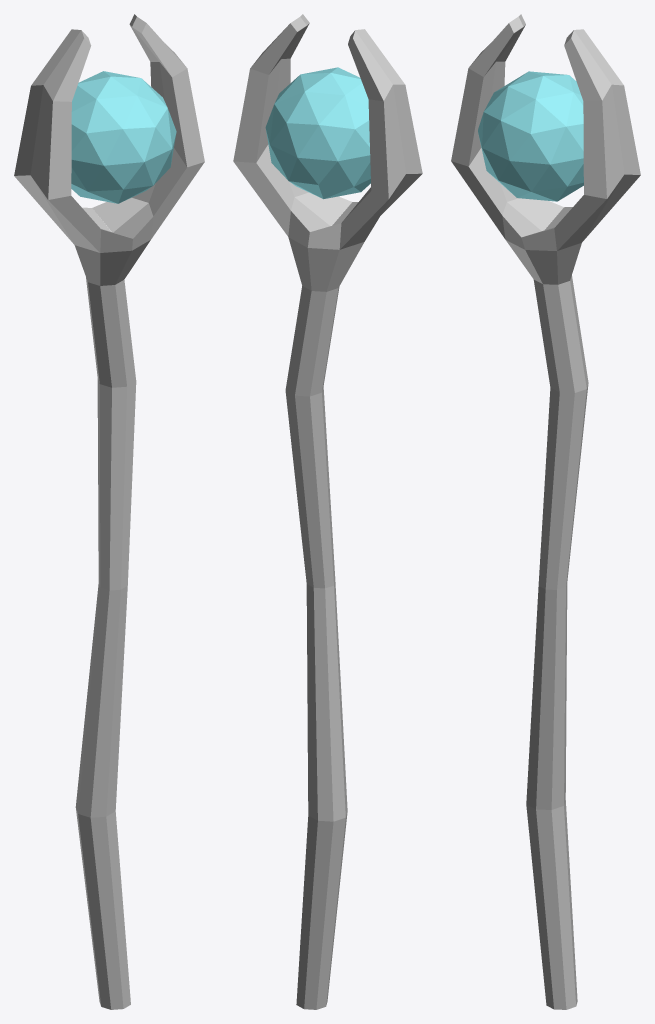
File: q_staff.gltf
3 renders of one model, left to right at view 1: azimuth 30°, elevation 25°; view 2: azimuth 150°, elevation 25°; view 3: azimuth 330°, elevation 25°, orthographic.
Visible parts, largest first — view 1: Staff; view 2: Staff; view 3: Staff.
Part boxes in pixels (x1,y1,x2,y2): Staff: (14,14,204,1009); Staff: (233,14,422,1009); Staff: (451,14,640,1009).
Size of the model in its own units: 0.2592 by 1.55 by 0.1915.
